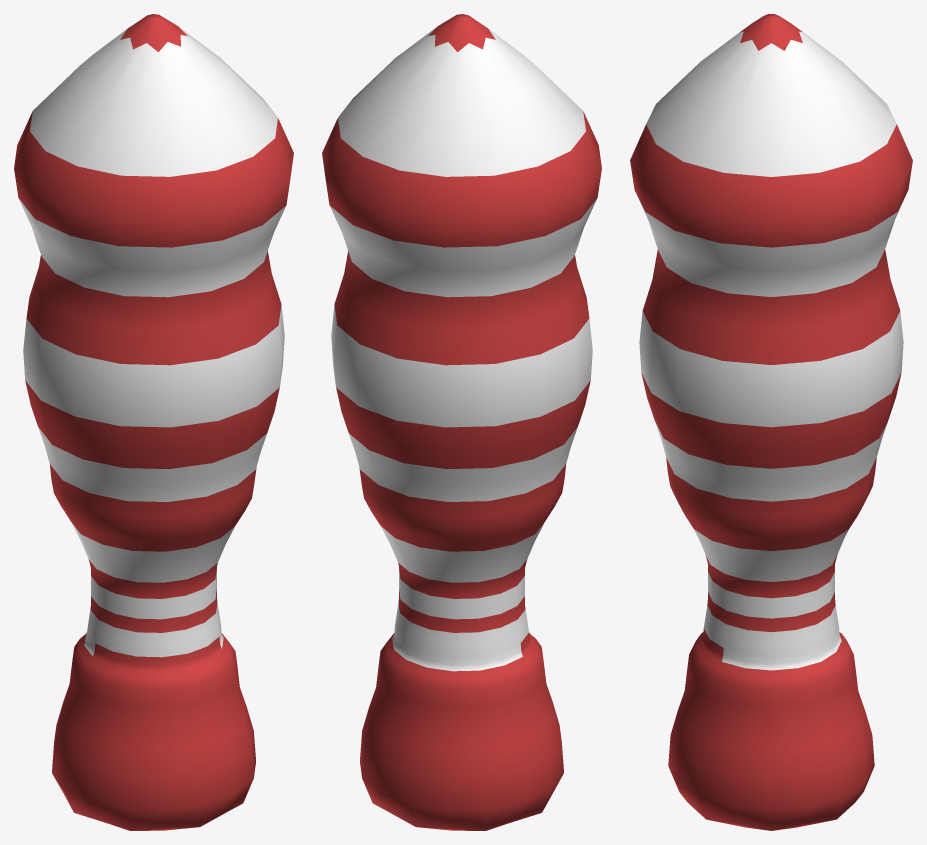
The model's file is Tower.fbx.
3 views of the same model, side by side, from view 1: azimuth 30°, elevation 25°; view 2: azimuth 150°, elevation 25°; view 3: azimuth 270°, elevation 25° (orthographic).
Visible parts, largest first — view 1: pCylinder1; view 2: pCylinder1; view 3: pCylinder1.
Part boxes in pixels (box(x1,y1,x2,y2)): pCylinder1: box(14, 14, 293, 830); pCylinder1: box(322, 14, 601, 830); pCylinder1: box(630, 14, 912, 830).
Bounding box in the file's own units: 56.79 × 174 × 56.79.
